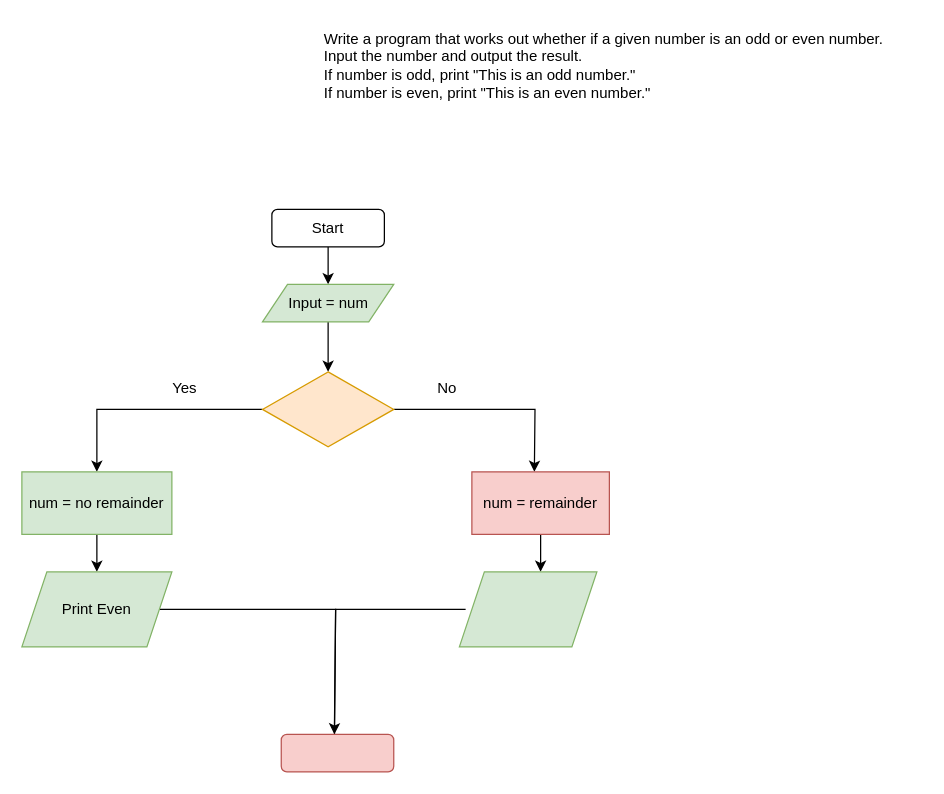
This 944x794 diagram has some shape labels left out. Each missing label, with the centre of its shape:
"if num % 2" belongs at [327,409].
"Print Odd" belongs at [527,609].
"Stop" belongs at [337,752].
